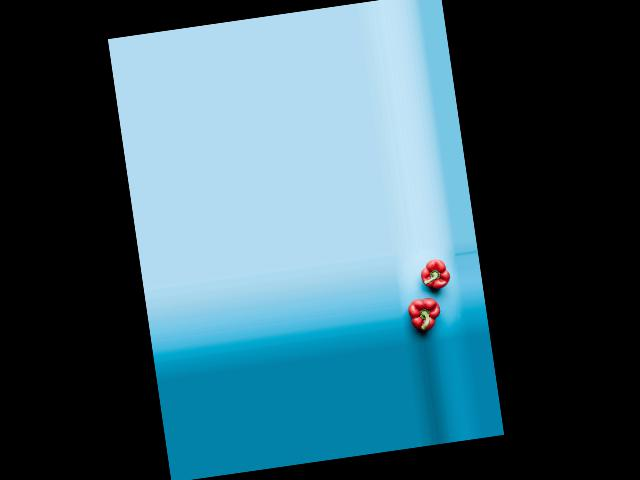bell_pepper: (406, 289, 446, 336)
